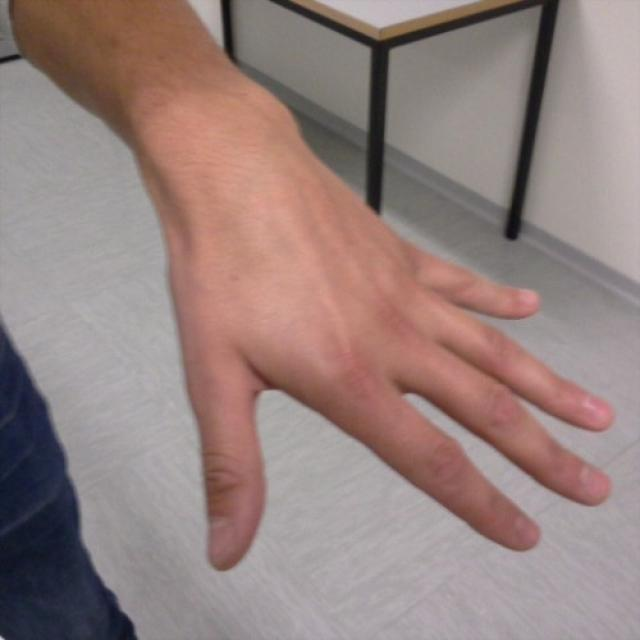paper: (176, 185, 614, 571)
